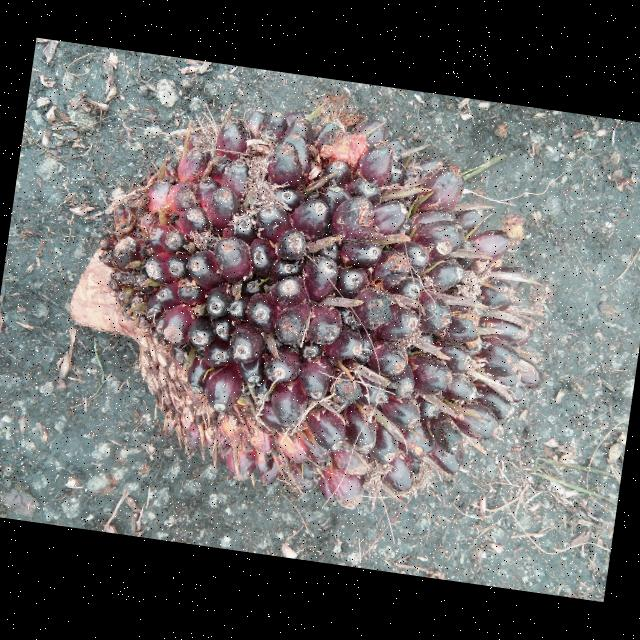Unripe: (109, 111, 535, 500)
